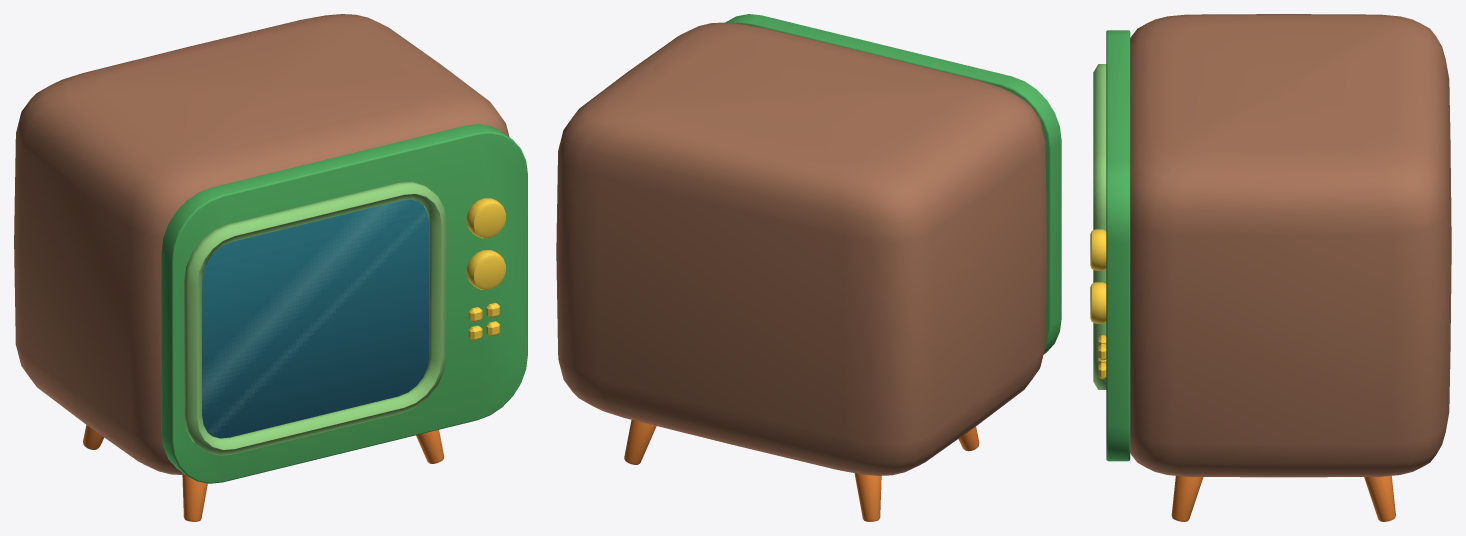
File: tv_tubo_pes_marrom.glb
3 renders of one model, left to right at view 1: azimuth 30°, elevation 25°; view 2: azimuth 150°, elevation 25°; view 3: azimuth 270°, elevation 25°, orthographic. The views are drawn at different scales.
Parts seen in each view (by area): view 1: tv_tubo_pes_marrom; view 2: tv_tubo_pes_marrom; view 3: tv_tubo_pes_marrom.
Part boxes in pixels (x1=…): tv_tubo_pes_marrom: x1=14, y1=14, x2=527, y2=521; tv_tubo_pes_marrom: x1=556, y1=14, x2=1061, y2=521; tv_tubo_pes_marrom: x1=1090, y1=14, x2=1451, y2=521.
Bounding box in the file's own units: 0.56 × 0.517 × 0.452.
2 materials, 2 textured.
